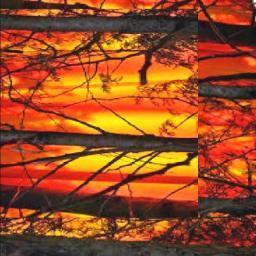Large fire: (0, 0, 256, 244)
